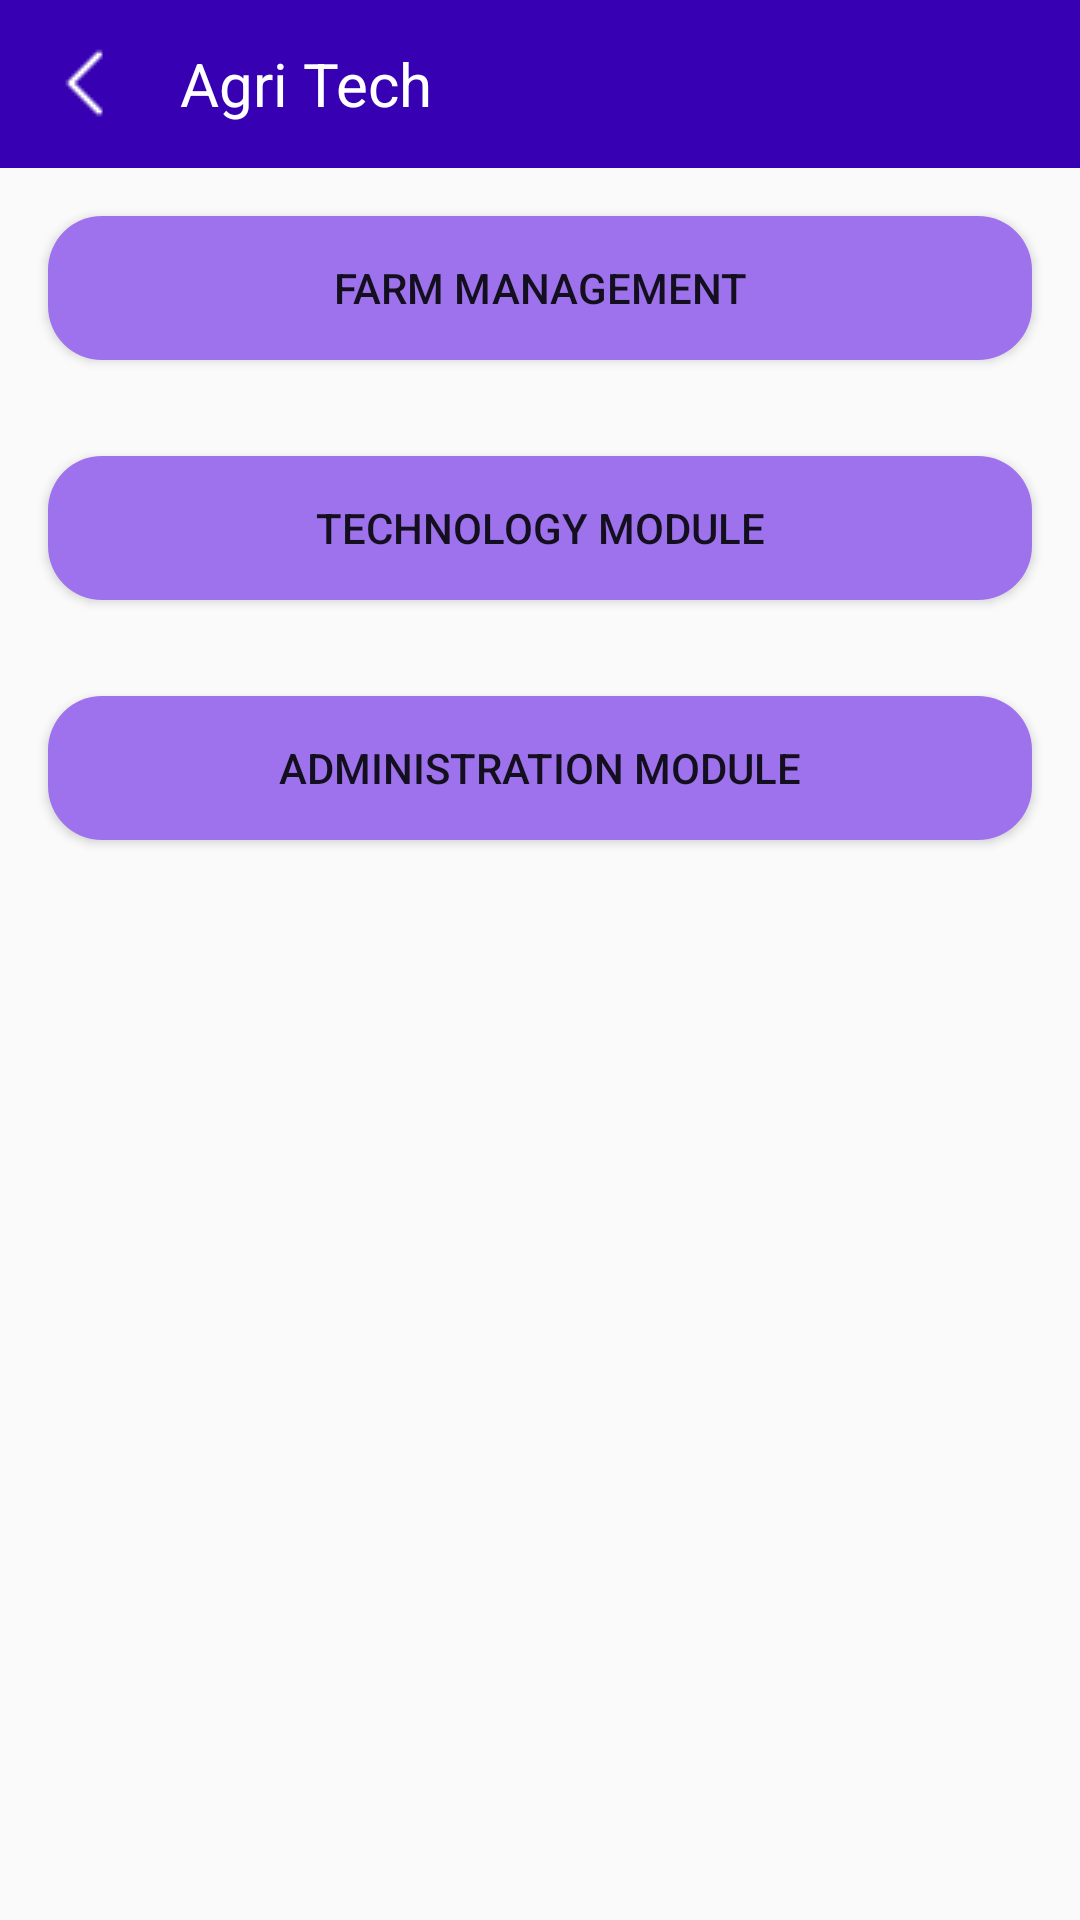

Icon click points for this 1080*1920 phone screenshot, format [x,y]:
left arrow: [84,83]
